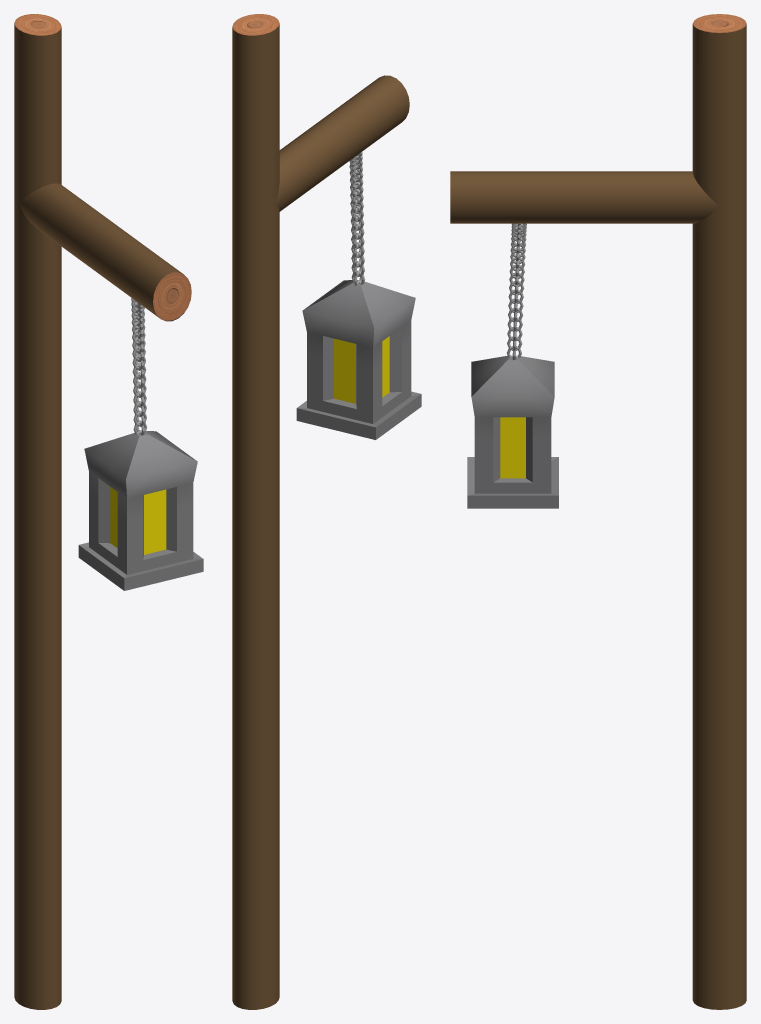
File: Lamp.fbx
The picture shows the model from 3 angles, left to right: view 1: azimuth 30°, elevation 25°; view 2: azimuth 150°, elevation 25°; view 3: azimuth 270°, elevation 25°; orthographic projection.
Visible parts, largest first — view 1: pCylinder6; view 2: pCylinder6; view 3: pCylinder6.
Boxes of the visible parts, left/top/right/bottom form: pCylinder6: left=14, top=14, right=203, bottom=1009; pCylinder6: left=232, top=14, right=421, bottom=1009; pCylinder6: left=450, top=14, right=746, bottom=1009.
Size of the model in its own units: 3.4 by 40 by 11.
